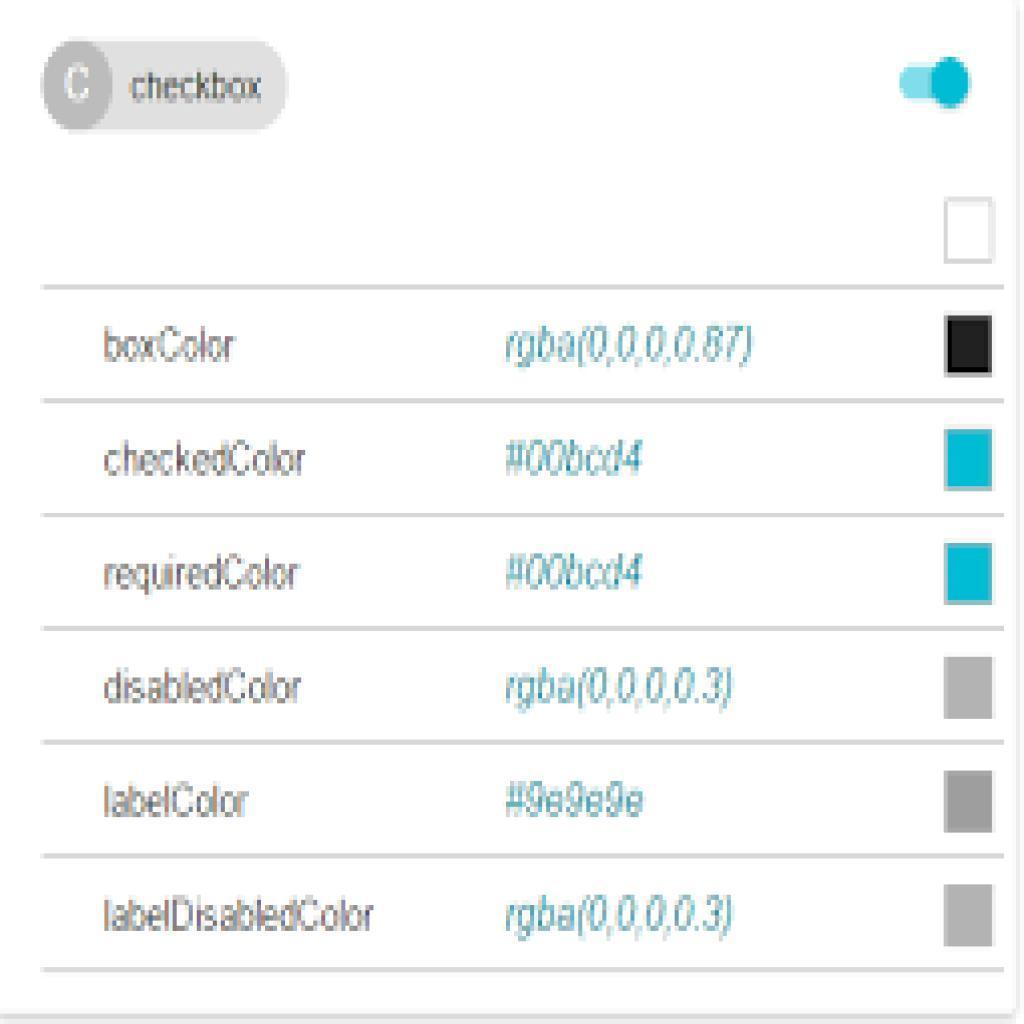checkbox: (941, 875, 999, 956), (941, 540, 998, 614), (942, 655, 1001, 722), (944, 426, 998, 498), (946, 195, 994, 267), (944, 309, 995, 376), (945, 772, 996, 836)
switch: (898, 46, 976, 126)
